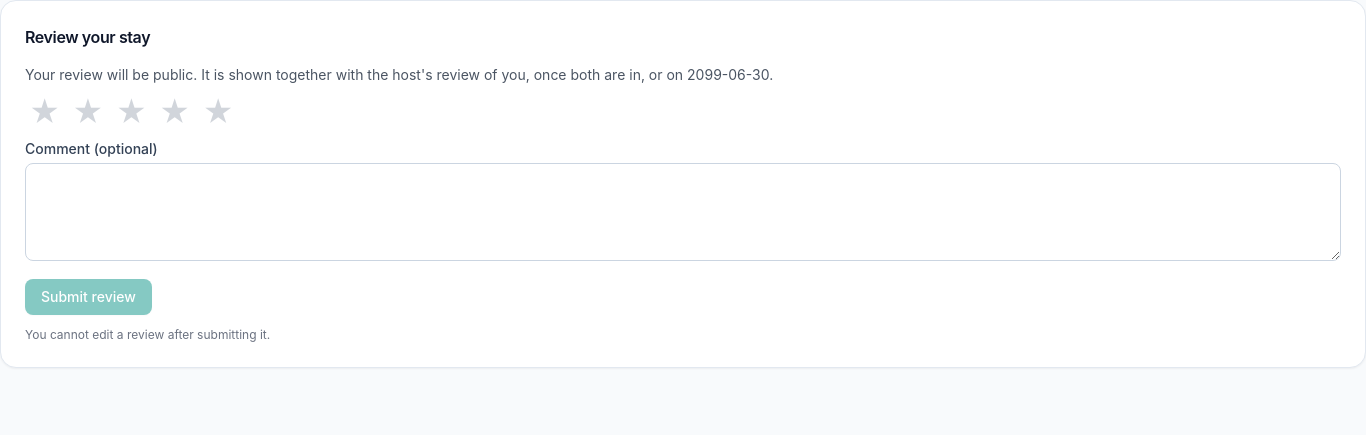
Test case: guest review box › shows the server's reason when sending fails
The width and height of the screenshot is (1366, 435).
Click the radio button named "5 stars": (218,112) x1=198 y1=97 x2=238 y2=127
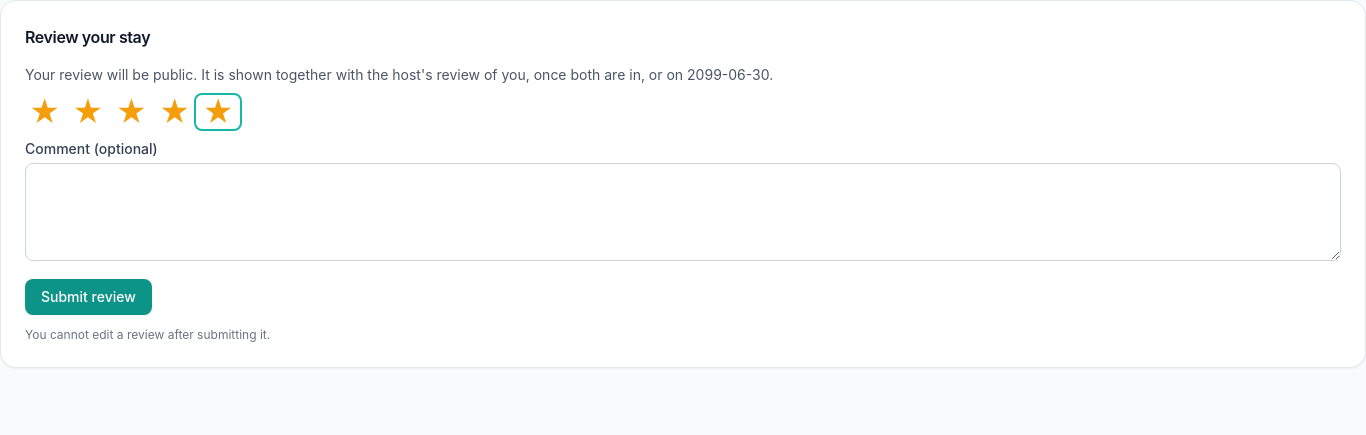
Click the button "Submit review": (88,297) x1=25 y1=279 x2=152 y2=315
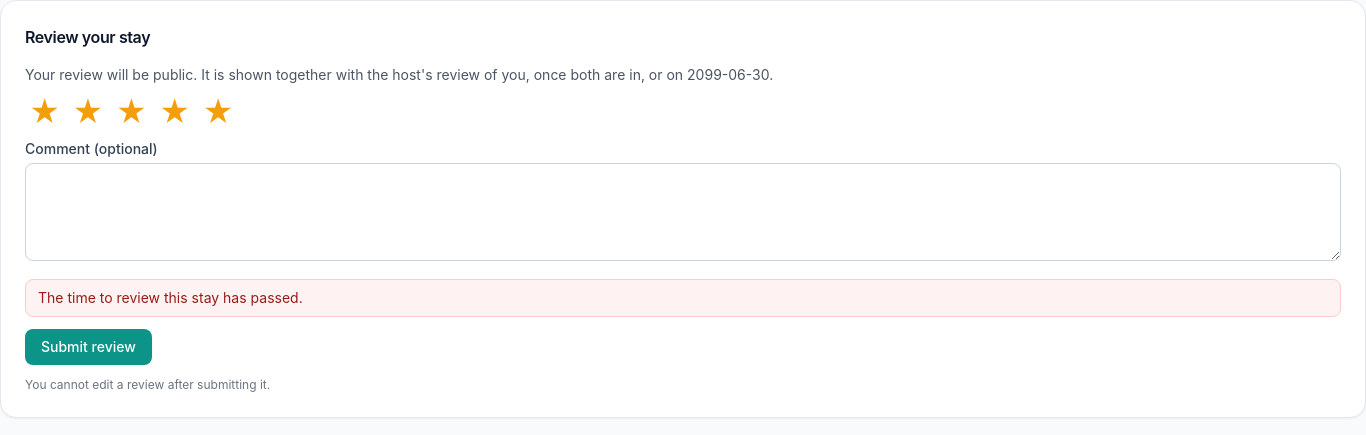
Expected: the text "The time to review this stay has passed." is shown, x1=25 y1=279 x2=1341 y2=317
